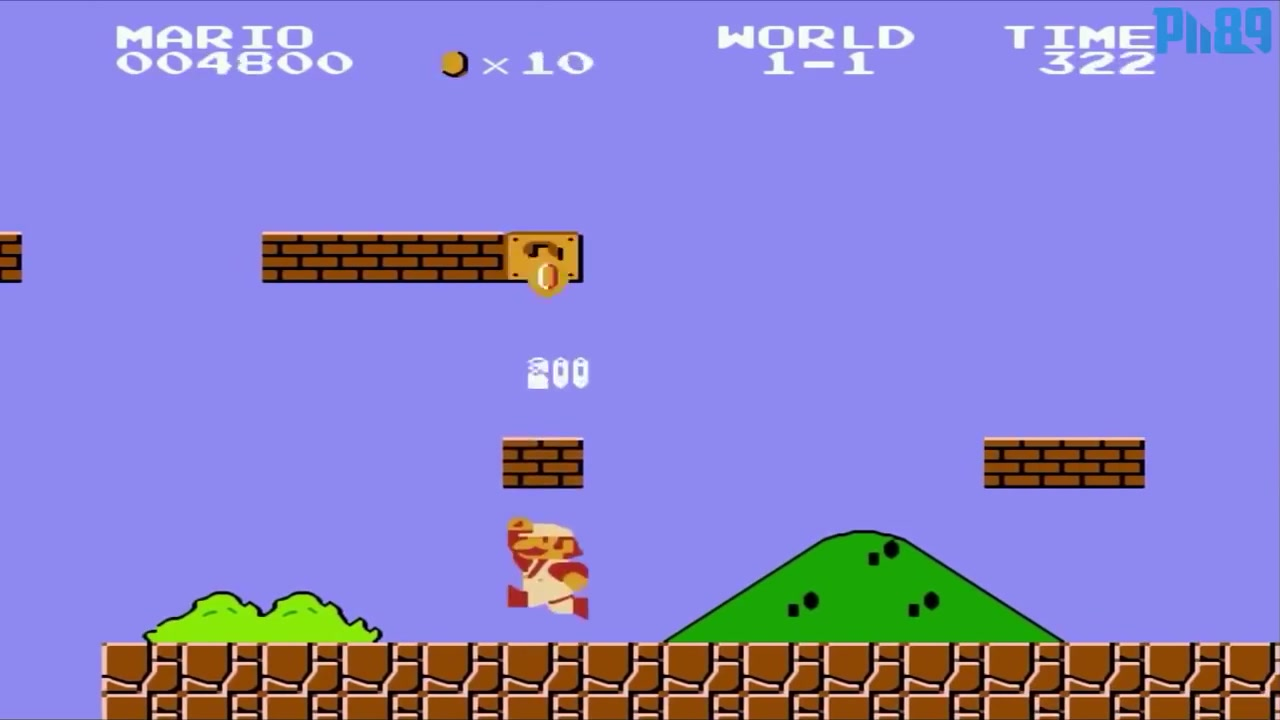mario: (493, 514, 590, 618)
